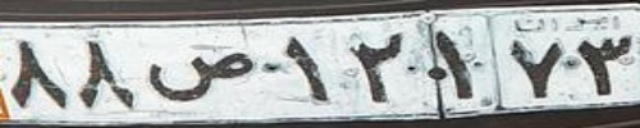1: (427, 29, 474, 99), (281, 35, 327, 100)
2: (347, 31, 404, 102)
3: (577, 33, 632, 96)
7: (506, 37, 565, 99)
8: (8, 39, 68, 111), (78, 38, 134, 109)
saat: (146, 51, 256, 104)
